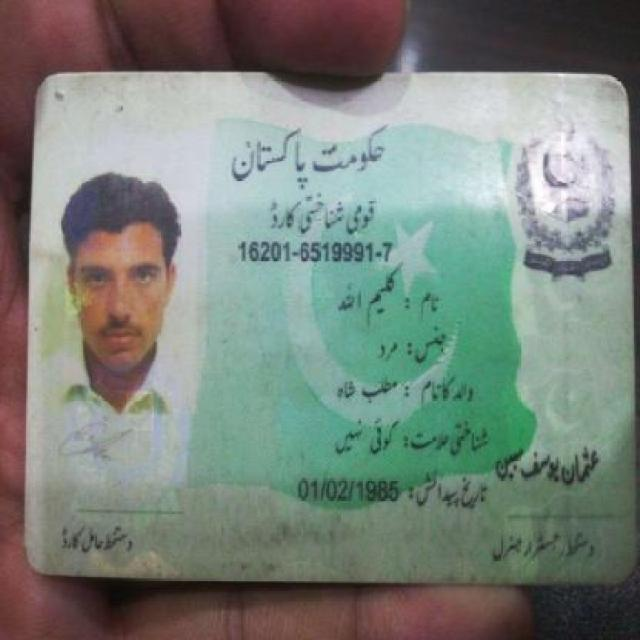Front: (15, 63, 632, 592)
